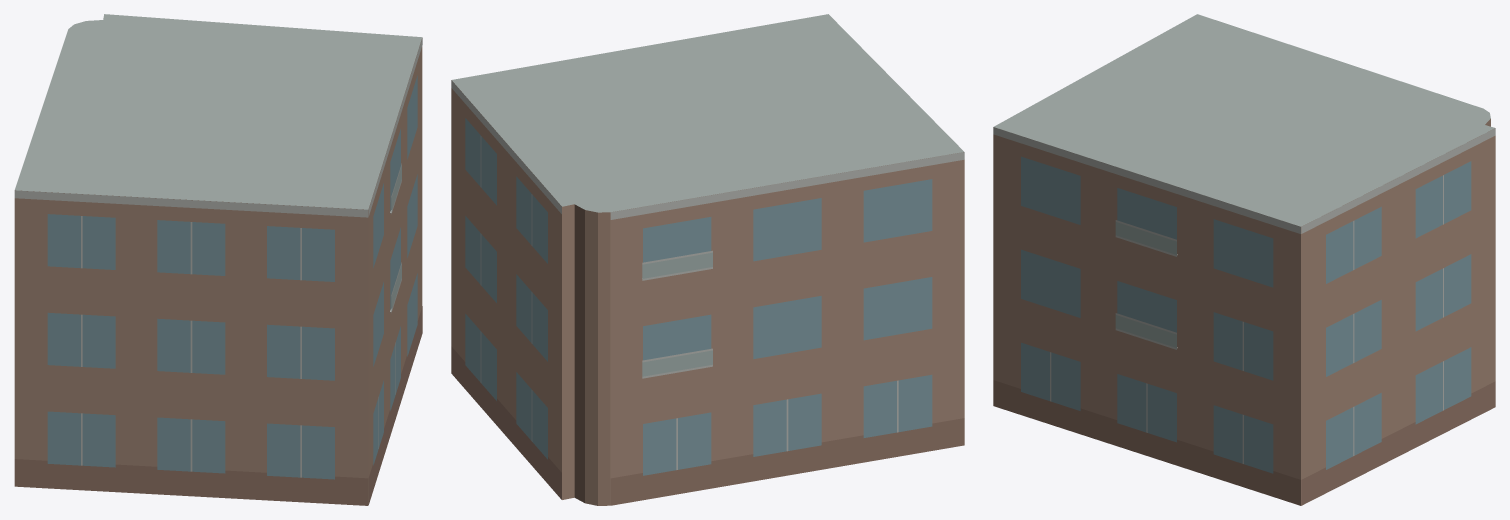
Rendered from survey-upis-32602490.glb.
The picture shows the model from 3 angles, left to right: view 1: azimuth 30°, elevation 25°; view 2: azimuth 150°, elevation 25°; view 3: azimuth 270°, elevation 25°; orthographic projection. The views are drawn at different scales.
Visible parts, largest first — view 1: survey-upis-32602490.tmp; view 2: survey-upis-32602490.tmp; view 3: survey-upis-32602490.tmp.
Boxes of the visible parts, <box> form: survey-upis-32602490.tmp: <box>14,14,422,505</box>; survey-upis-32602490.tmp: <box>451,14,964,505</box>; survey-upis-32602490.tmp: <box>993,14,1495,505</box>.
Bounding box in the file's own units: 14.97 × 9.15 × 14.93.
